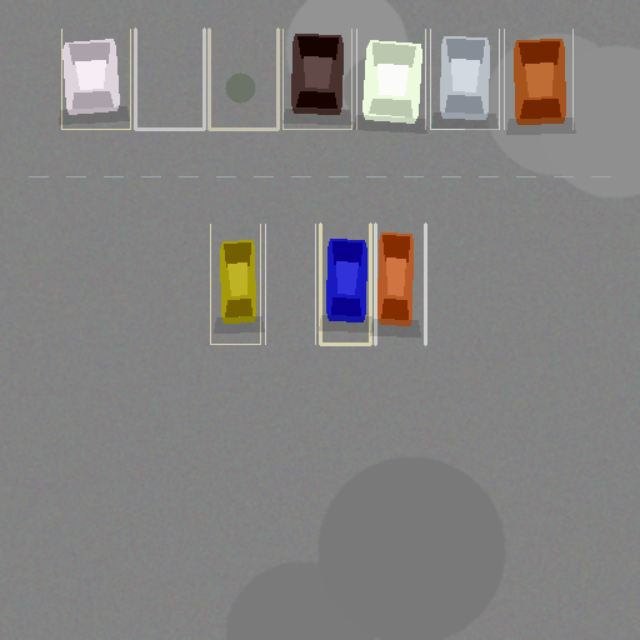space-empty: (135, 29, 204, 129), (209, 29, 278, 129), (265, 224, 315, 344)
space-occupied: (61, 29, 130, 129), (282, 29, 351, 129), (356, 29, 425, 129), (430, 29, 499, 129), (504, 29, 572, 129), (210, 224, 260, 344), (320, 224, 370, 344), (375, 224, 425, 344)
